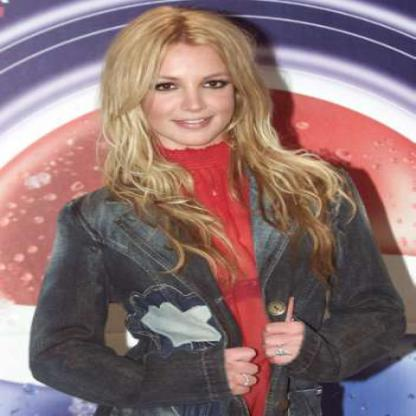face: (133, 17, 242, 147)
